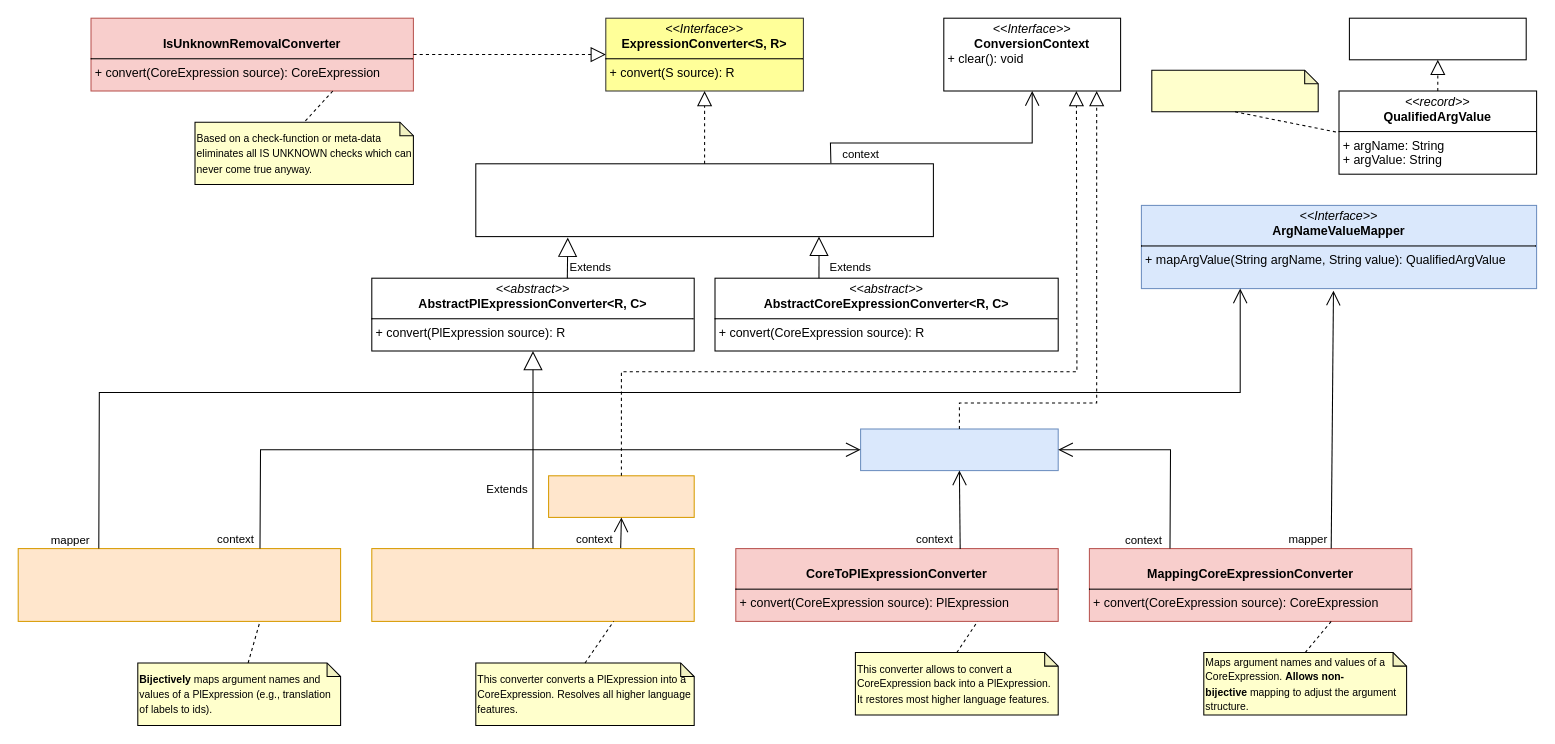
Image size: 1555x744. Some labels were removed from this diagram. The shapes that lost their labels are listed below. From the top down, each one's centre as x and y in pixels, then its label:
At pixel 1437 38: "<<Interface>> Comparable".
At pixel 1234 90: "A value within the realm of an argument".
At pixel 704 200: "<<abstract>> AbstractExpressionConverter<S, R, C extends ConversionContext>".
At pixel 959 449: "DefaultConversionContext<R>".
At pixel 621 496: "de.calamanari.adl.irl.biceps ExpressionTreeLevel".
At pixel 179 584: "MappingPlExpressionConverter + convert(PlExpression source): PlExpression".
At pixel 532 584: "PlToCoreExpressionConverter + convert(PlExpression source): CoreExpression".
